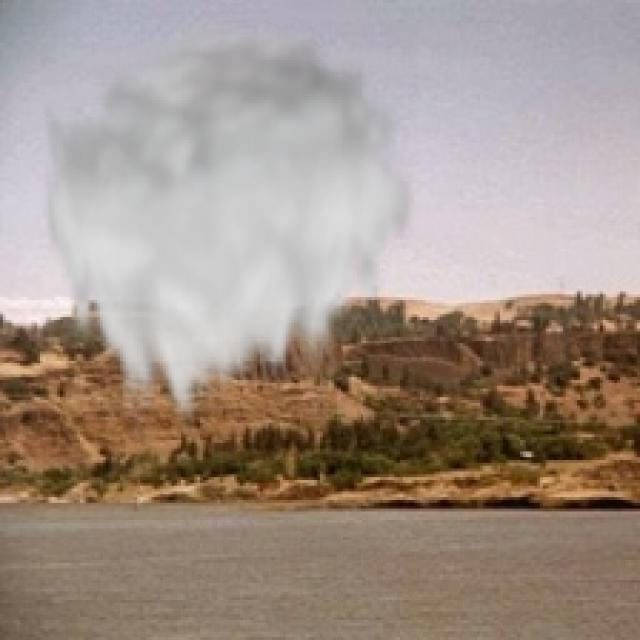smoke: (40, 12, 420, 437)
